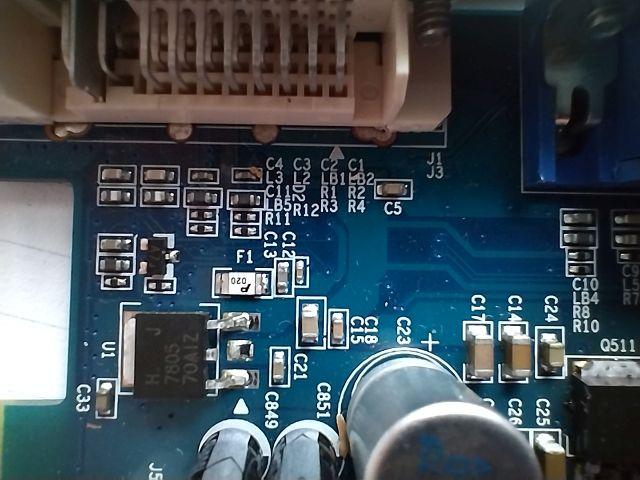capacitor: (454, 315, 505, 388), (535, 319, 577, 387), (299, 291, 329, 352), (266, 337, 294, 393)
resistor: (98, 270, 134, 298), (226, 203, 264, 227), (145, 276, 182, 300), (183, 220, 218, 243), (186, 203, 219, 226), (226, 221, 266, 239)
